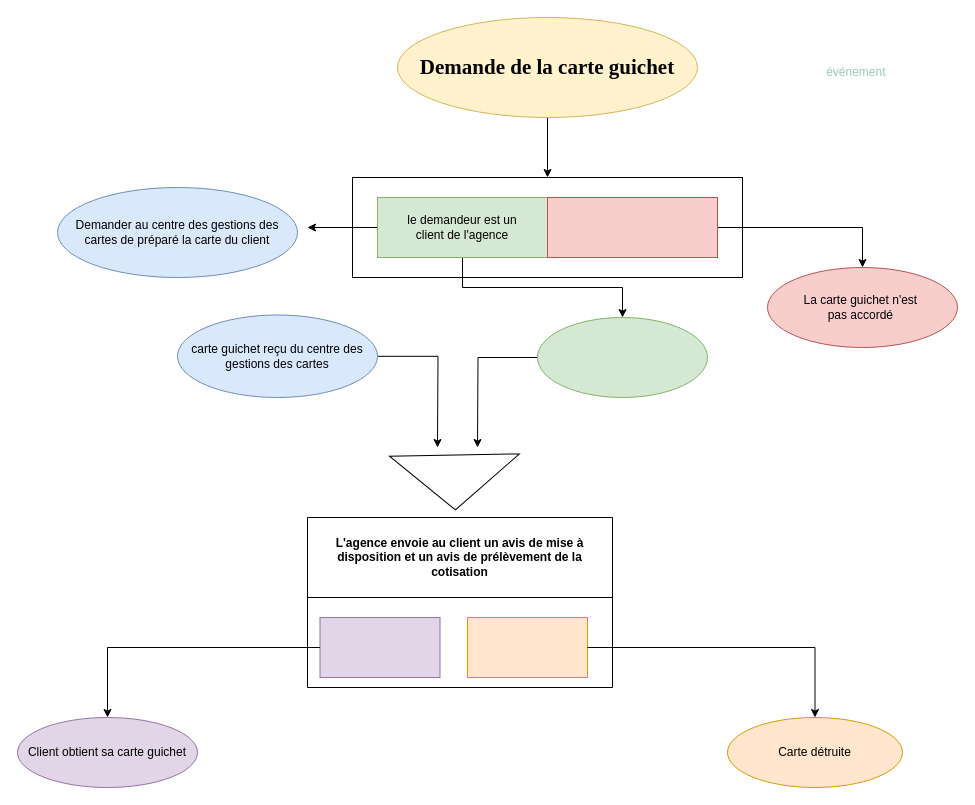
This 975x805 diagram has some shape labels left out. The centre of each missing label's shape, as x and y in pixels:
Client ne retire pas sa carte au bout de 2 mois: [527,647]
Client retire sa carte au bout de 2 mois: [379,647]
la carte guichet est accordé: [622,357]
le demandeur n'est pas un client de l'agence: [632,227]
